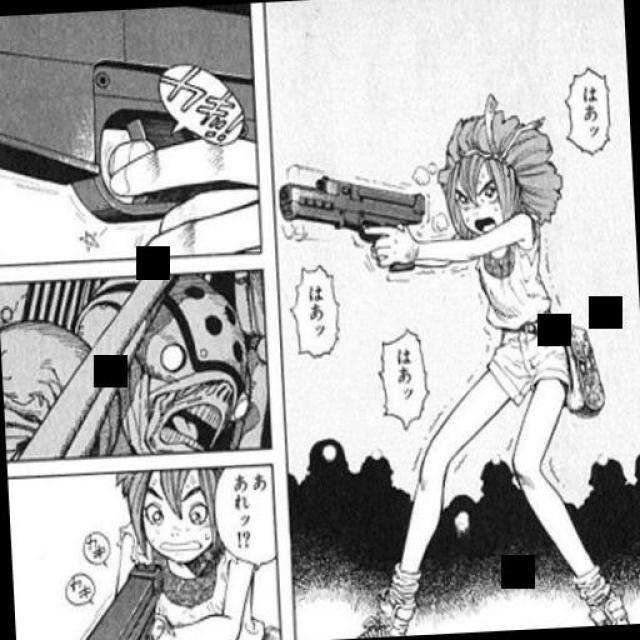gun: (281, 155, 430, 283)
